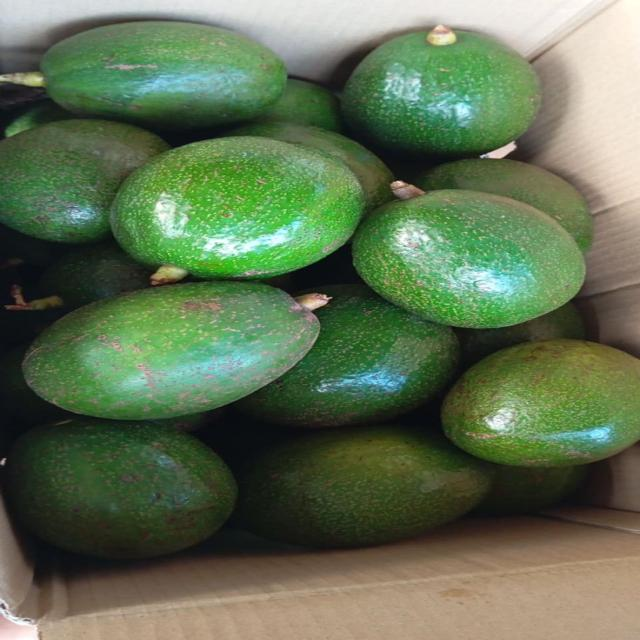avocado: (24, 282, 319, 419), (112, 137, 364, 283), (353, 182, 585, 328), (5, 418, 236, 558), (236, 284, 459, 427), (235, 426, 492, 547), (0, 21, 286, 129), (342, 27, 539, 155), (442, 340, 639, 466), (0, 120, 169, 243), (414, 159, 593, 252), (227, 123, 393, 212), (457, 302, 586, 364), (194, 405, 306, 472), (40, 244, 151, 311), (0, 345, 76, 426), (471, 465, 590, 516), (0, 269, 63, 352), (252, 79, 343, 132), (290, 243, 362, 290), (0, 226, 72, 266), (5, 100, 77, 137), (147, 408, 225, 432)
